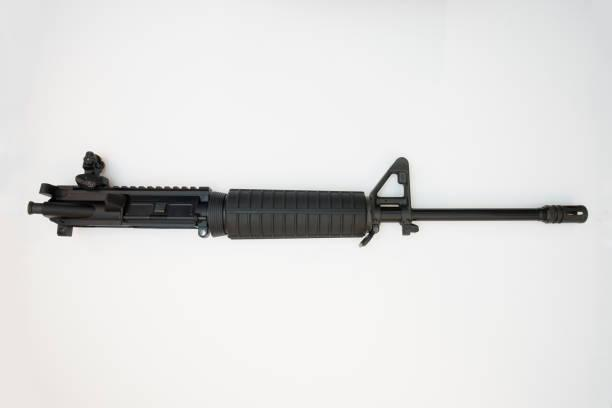larga: (28, 150, 590, 248)
